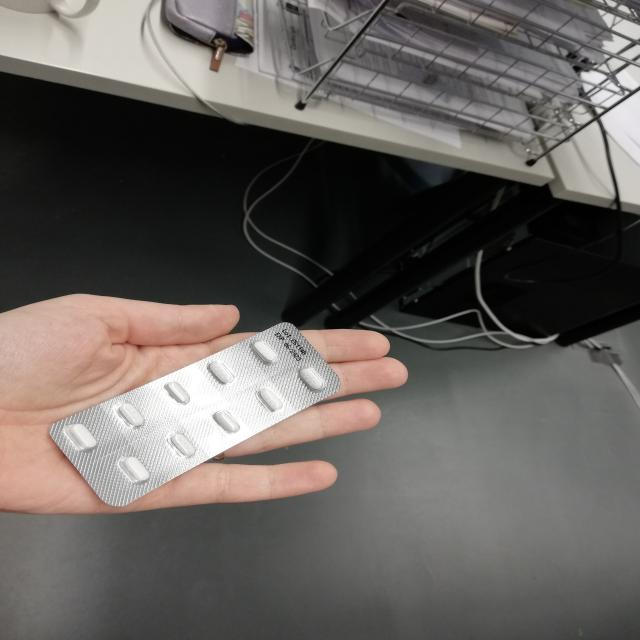Pill: (56, 419, 108, 457), (109, 397, 150, 438), (292, 360, 332, 397), (248, 383, 289, 418), (210, 403, 247, 440), (111, 456, 152, 488), (165, 427, 200, 462), (248, 335, 287, 365), (206, 356, 235, 393), (165, 376, 194, 408)
